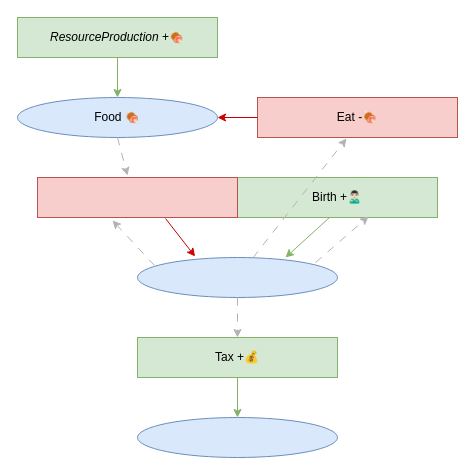
Some shapes in this 475 by 475 pixel diagram are drawn without their labels. Each missing label, with the centre of its shape:
"Citizen 🙎🏻‍♂️" goes at [237,277].
"Gold 💰" goes at [237,437].
"Starve -🙎🏻‍♂️" goes at [137,197].
